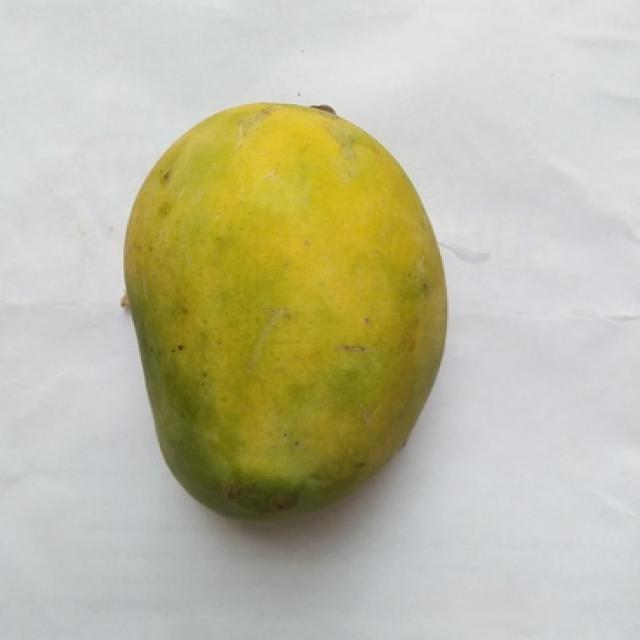Mango: (123, 105, 445, 516)
